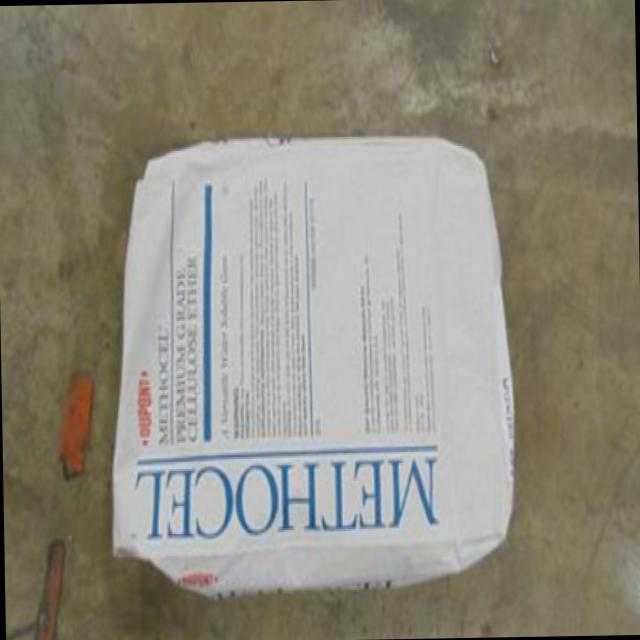KantongSemen: (103, 130, 519, 602)
